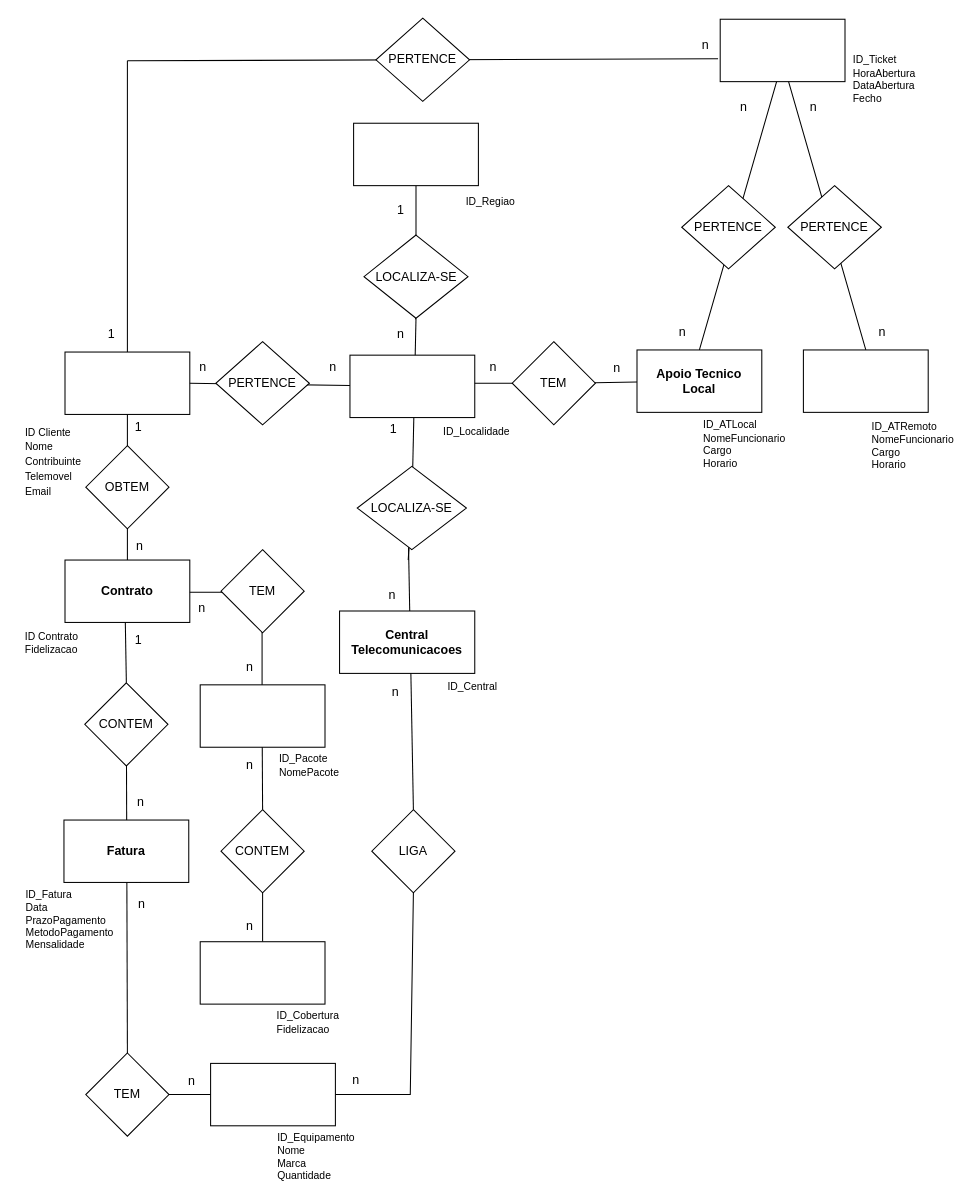
Image size: 973x1200. Some labels were removed from this diagram. The centre of each missing label's shape, as x and y in pixels:
Apoio Tecnico Remoto: point 865,380
Cliente: point 127,382
Cobertura: point 262,972
Equipamento: point 272,1094
Localidade: point 412,386
Pacote: point 262,715
Regiao: point 415,154
Ticket: point 782,50
